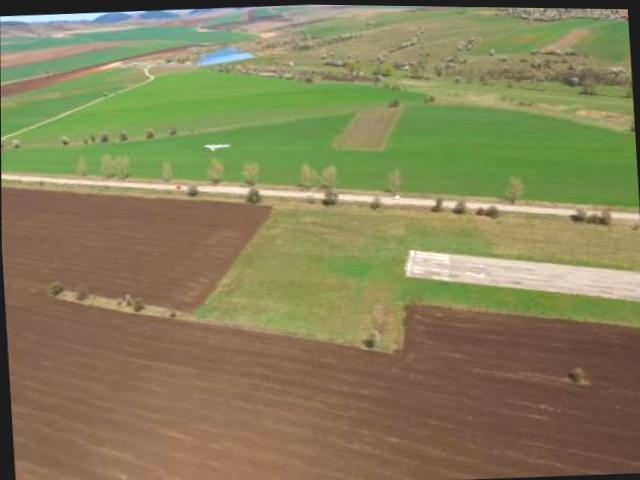uav: (201, 130, 233, 157)
